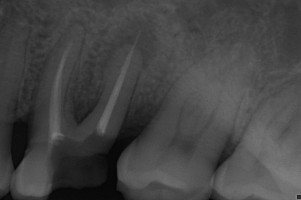Dental Caries: (66, 16, 160, 126)
